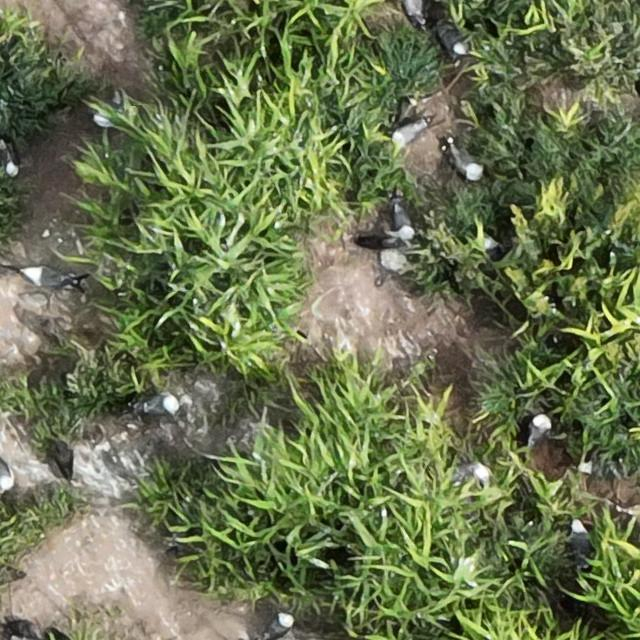umineko: (27, 266, 72, 286), (453, 149, 482, 180), (140, 395, 178, 415), (439, 29, 466, 56), (262, 612, 290, 638), (392, 122, 424, 144), (393, 205, 413, 238), (456, 462, 489, 482), (572, 524, 590, 559), (530, 412, 550, 443), (402, 1, 423, 26), (4, 145, 19, 175), (0, 460, 10, 490)
